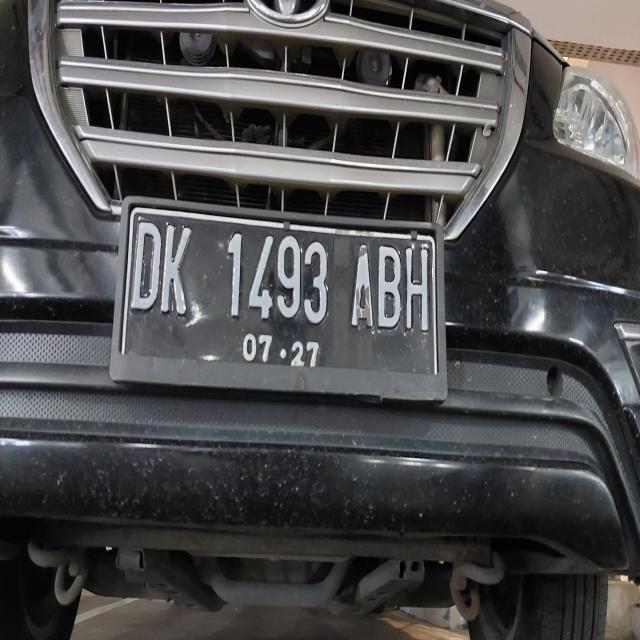1: (225, 222, 244, 320)
3: (304, 230, 328, 326)
4: (248, 226, 274, 322)
9: (276, 230, 302, 320)
A: (350, 237, 376, 333)
B: (377, 234, 402, 332)
D: (129, 219, 162, 311)
H: (404, 235, 434, 335)
K: (162, 220, 193, 316)
